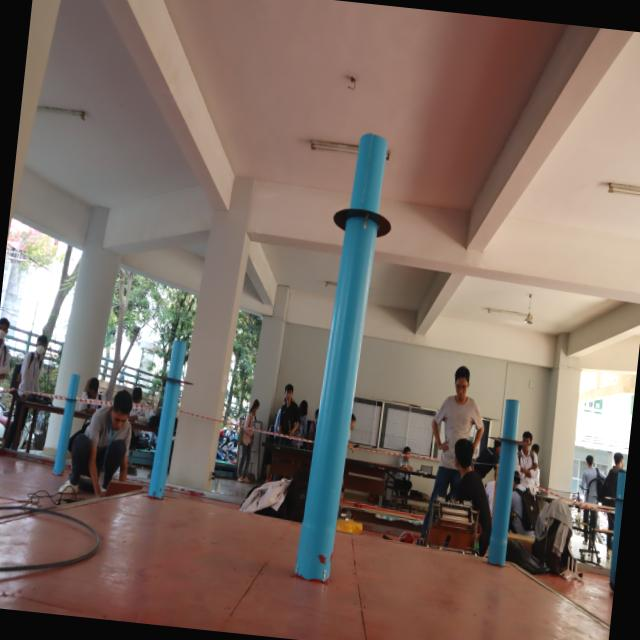pole: (316, 120, 414, 300), (484, 397, 536, 470), (154, 337, 196, 409), (52, 370, 92, 430)
